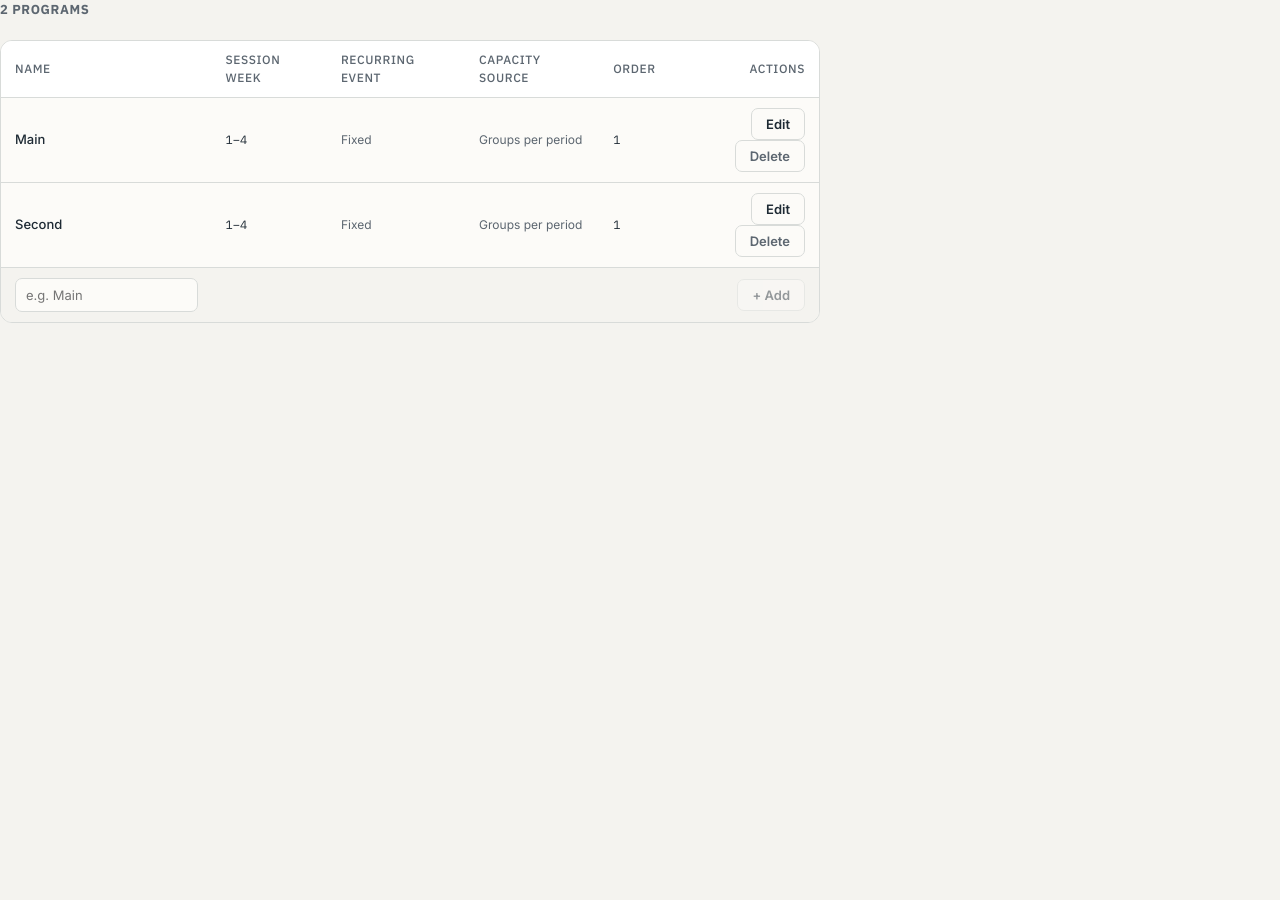
CohortsScreen › cancels without deleting
Check: the text "Main" is shown, box [1,97,212,182]
Click the button "Delete" in the row of "Main".
click(770, 156)  # box [735,140,805,172]
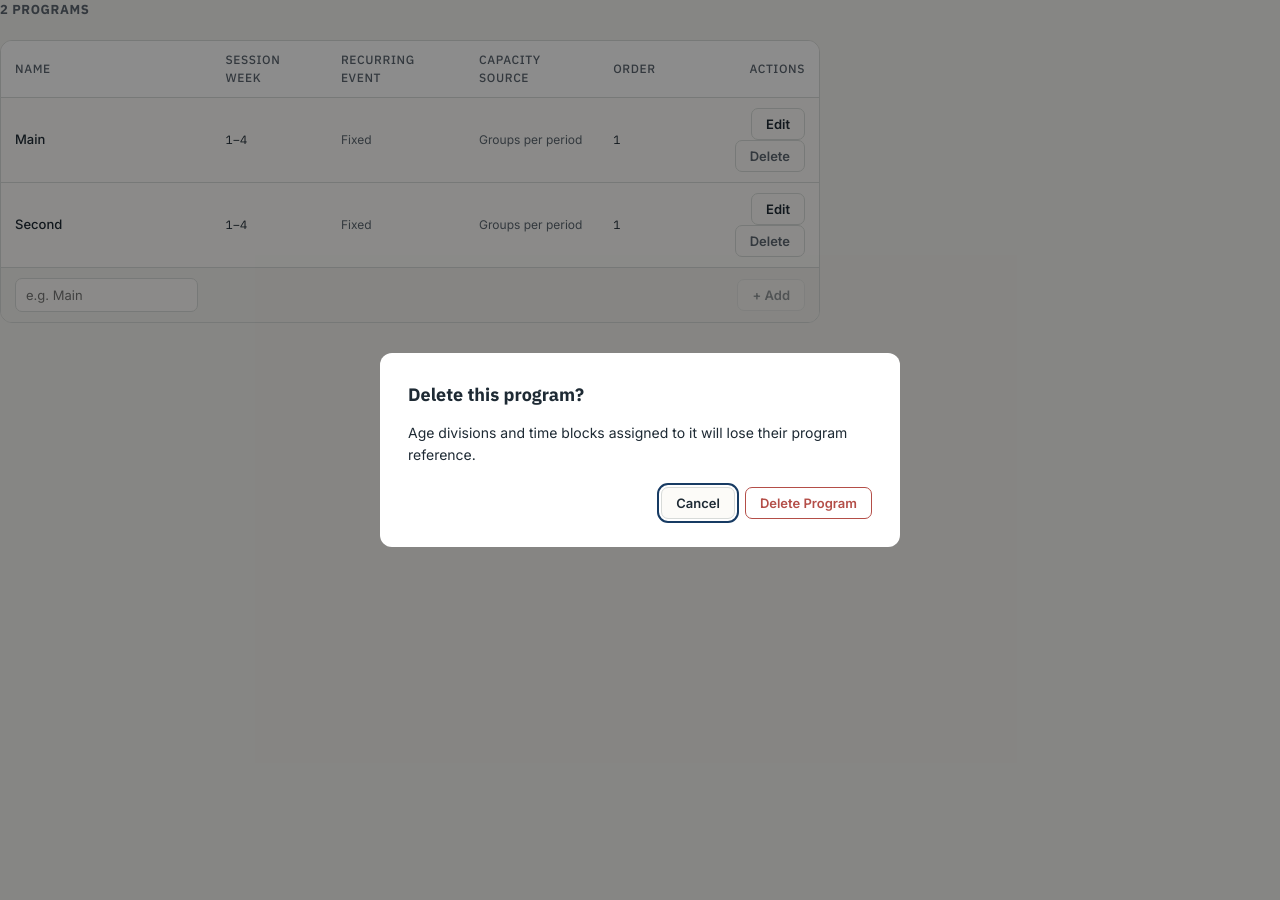
Check: the text "Delete this program?" is shown, box [408,383,584,406]
Click the button "Cancel".
click(698, 503)  # box [661,487,735,519]
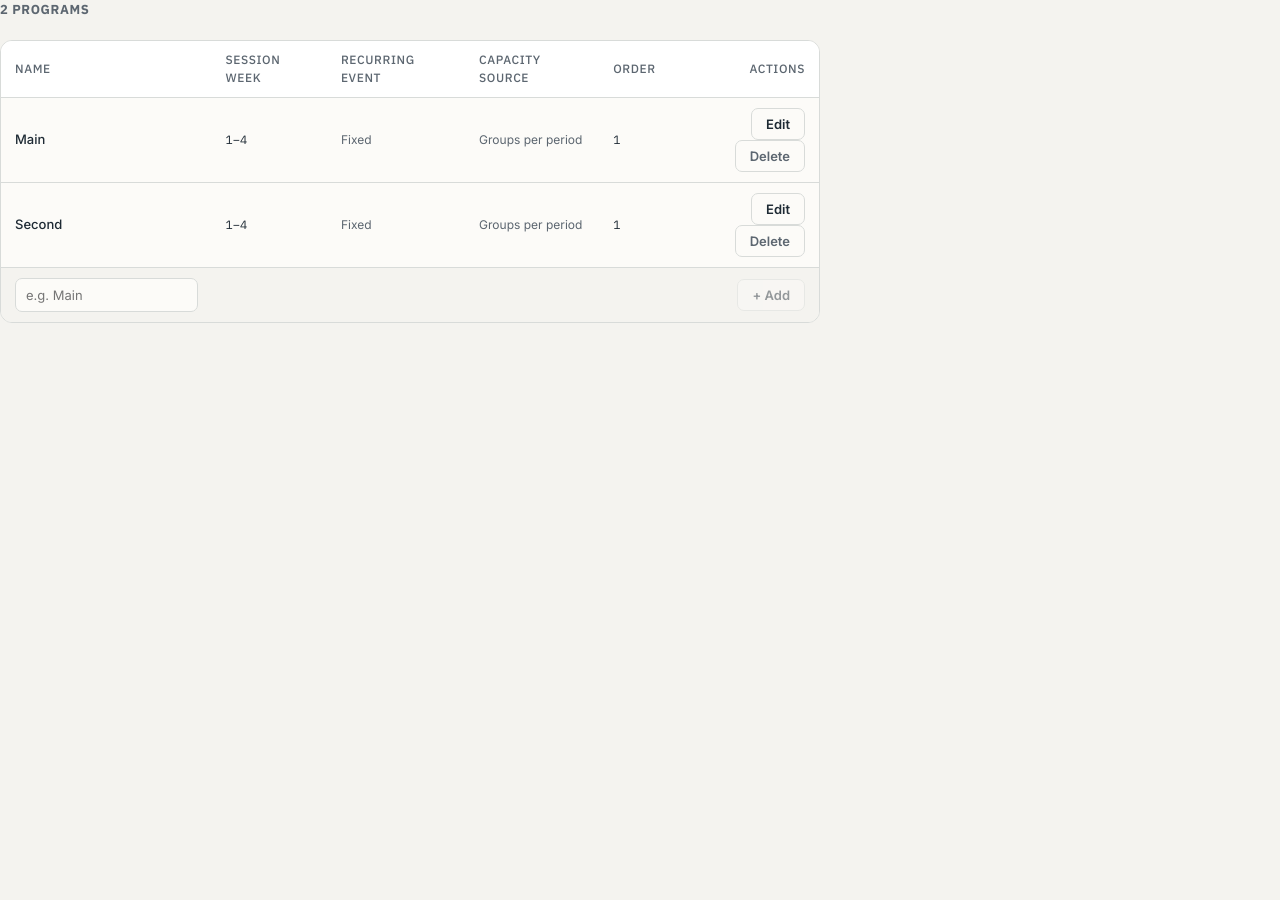
Check: the text "Delete this program?" is gone
